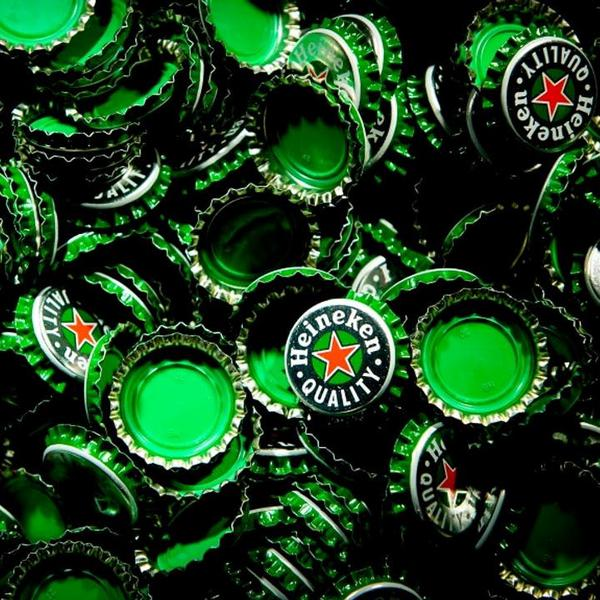heineken: (280, 295, 401, 423), (500, 34, 600, 153), (25, 277, 105, 382)
